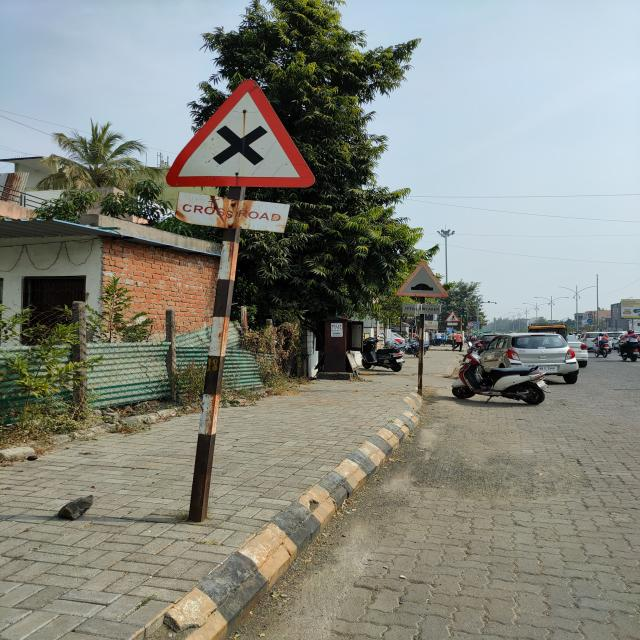cross_road: (160, 79, 316, 191)
